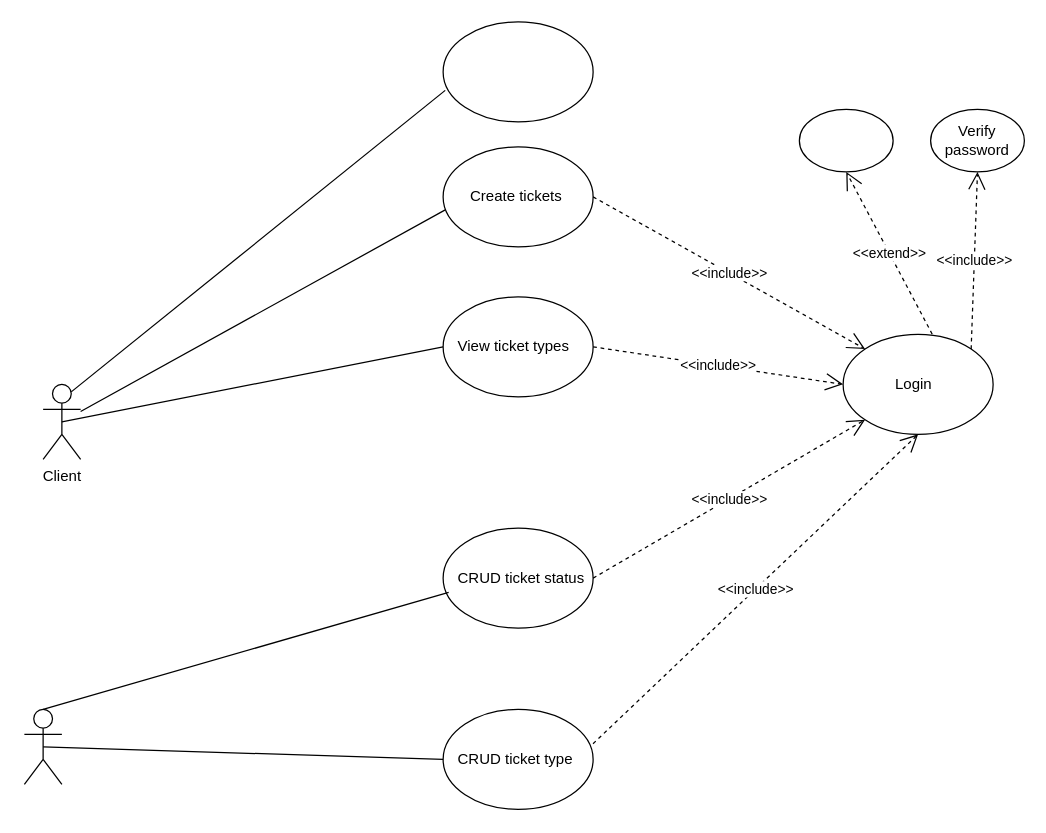
The diagram is 1046 pixels wide and 833 high, and some of its shapes have lost their labels. Here are the shapes that lost their labels. From the top down, the centre of each, then its label:
At point 517,71: "Register".
At point 845,140: "Display login error".
At point 42,746: "Admin".
